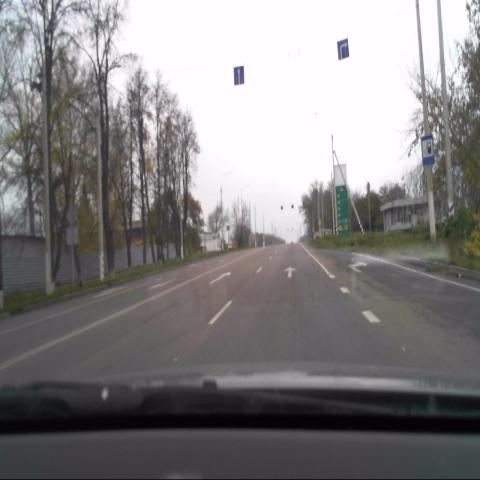7_3: (421, 135, 435, 167)
